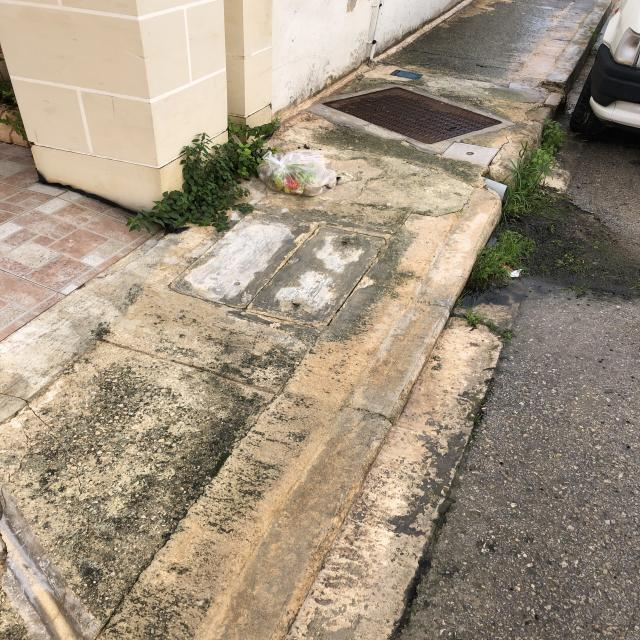Organic Waste -White Bag-: (260, 147, 340, 197)
